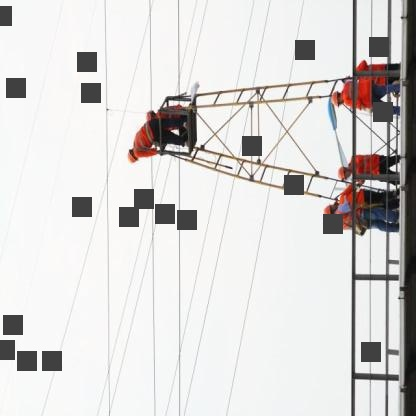vest: (349, 151, 380, 186), (341, 79, 373, 111), (134, 118, 157, 160), (353, 60, 389, 83), (334, 205, 360, 235), (338, 184, 366, 207)
